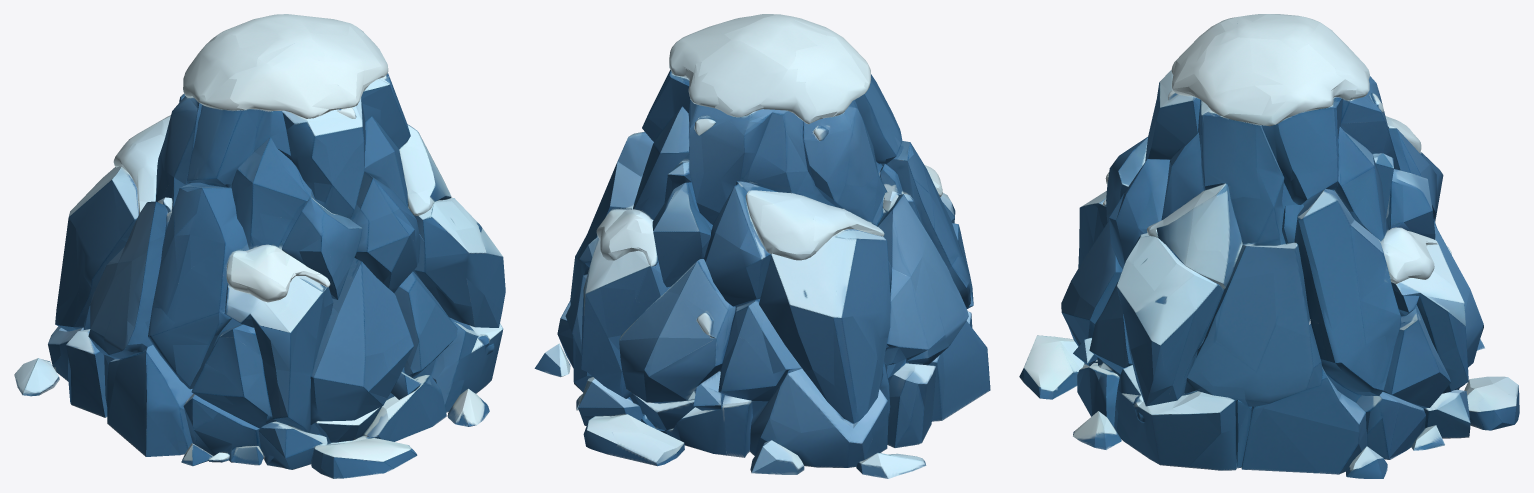
File: cliff_boulder.glb
3 views of the same model, side by side, from view 1: azimuth 30°, elevation 25°; view 2: azimuth 150°, elevation 25°; view 3: azimuth 270°, elevation 25° (orthographic). The views are drawn at different scales.
Size of the model in its own units: 1.77 by 1.53 by 1.9.
1 material, 1 textured.
